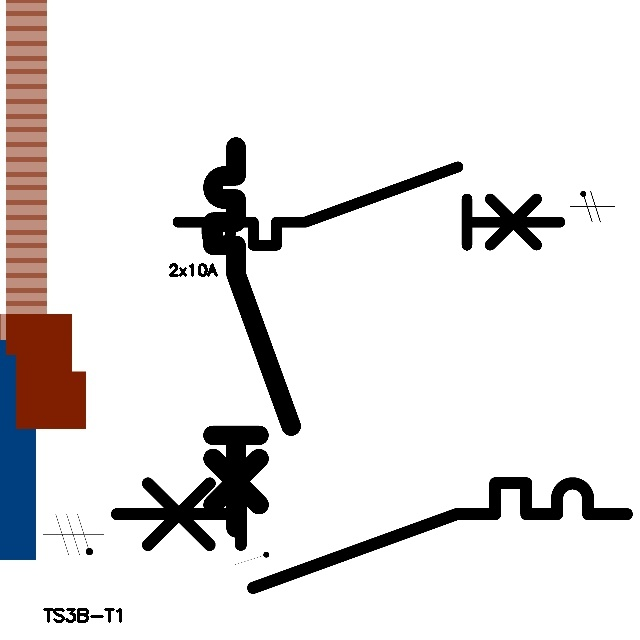interruptor_termomagnetico: (103, 470, 640, 601), (203, 137, 301, 538), (168, 157, 569, 255)
